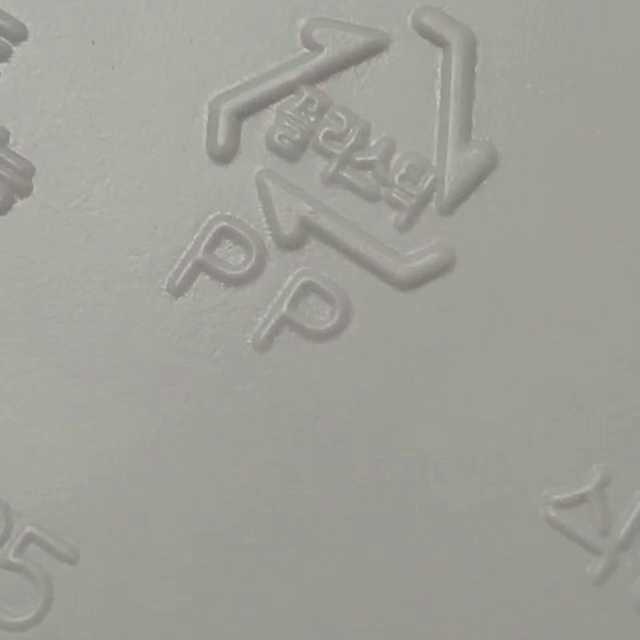Plastic: (204, 4, 494, 291)
